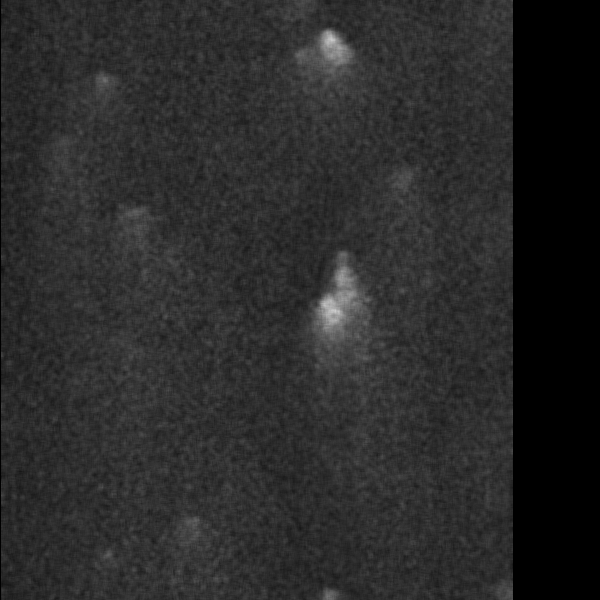spark: (125, 509, 166, 563), (410, 405, 432, 431)
